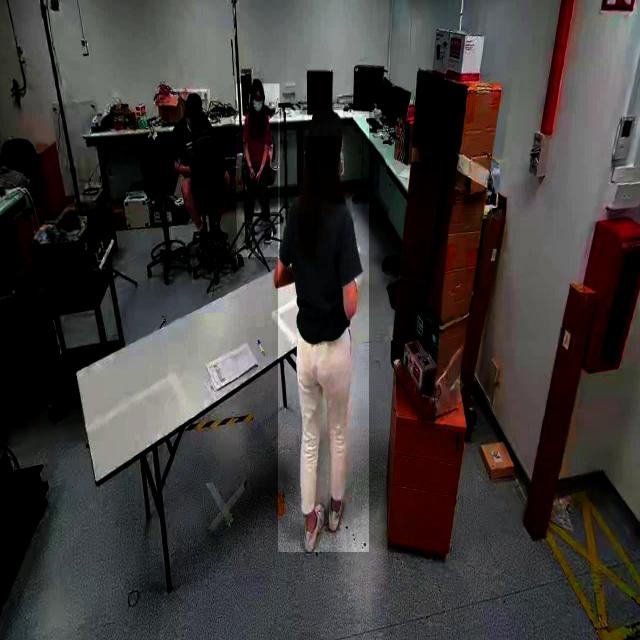face_mask: (251, 95, 265, 120)
hand_noglove: (248, 166, 256, 182), (255, 170, 261, 187)
head_nohelmet: (306, 108, 344, 137), (184, 92, 202, 118), (250, 78, 264, 92)
person: (278, 110, 370, 553), (236, 84, 280, 258), (170, 89, 210, 247)
shoes: (299, 503, 325, 556), (324, 488, 346, 538)
